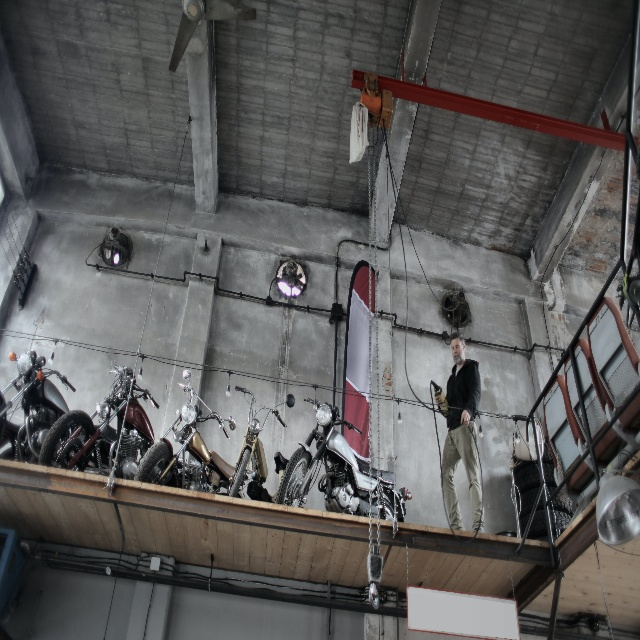Sin_guantes: (460, 409, 470, 426), (434, 393, 441, 405)
